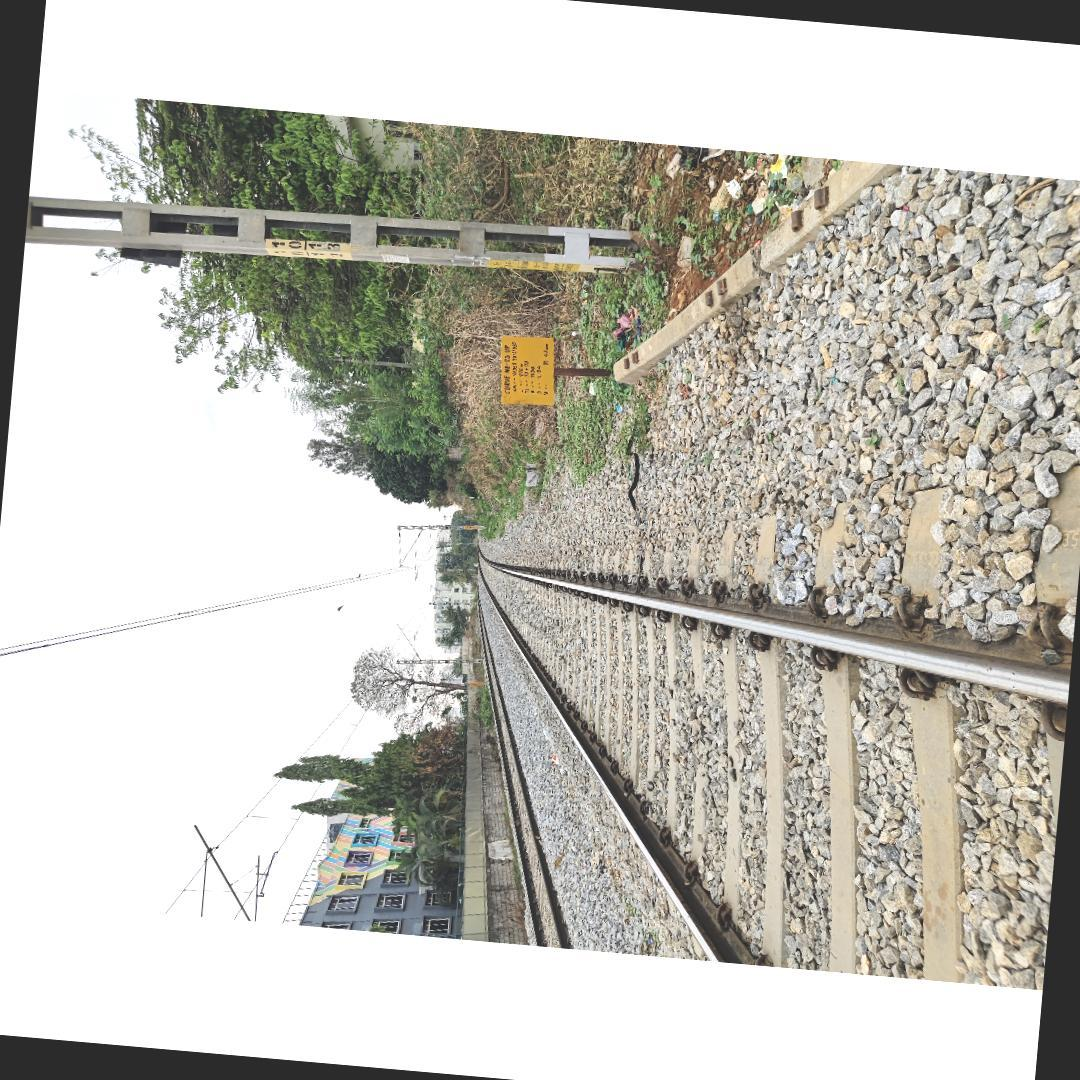track: (475, 528, 1073, 987)
